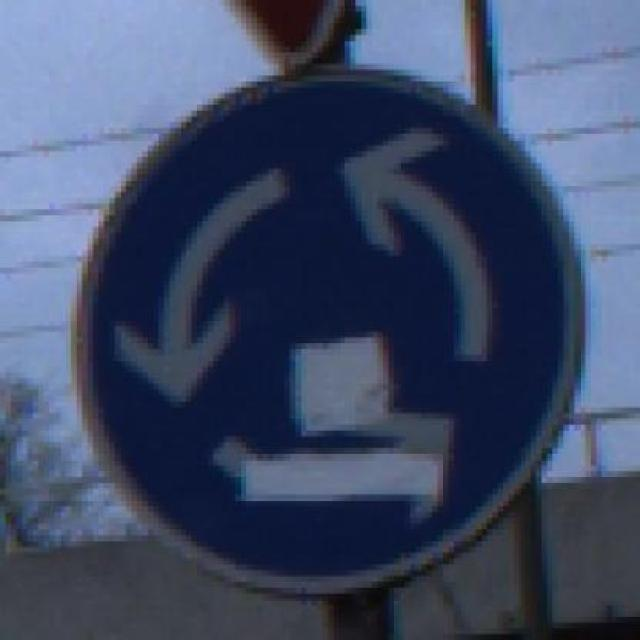Round-About: (39, 47, 618, 605)
